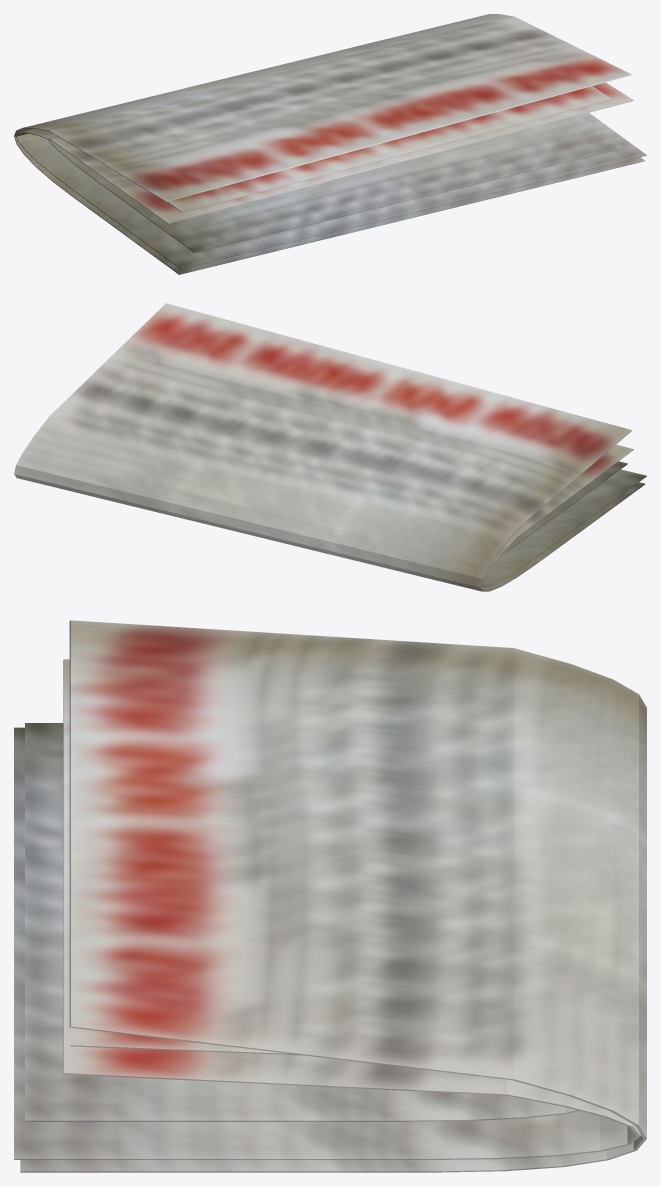
Rendered from Newspapers.fbx.
The picture shows the model from 3 angles, top to bottom: view 1: azimuth 30°, elevation 25°; view 2: azimuth 150°, elevation 25°; view 3: azimuth 270°, elevation 25°; orthographic projection. The views are drawn at different scales.
Parts seen in each view (by area): view 1: Plane; view 2: Plane; view 3: Plane.
Boxes of the visible parts, x1,y1,x2,y2 form: Plane: (14,14,646,274); Plane: (14,303,646,591); Plane: (14,620,646,1172).
Size of the model in its own units: 300 by 47.48 by 186.
